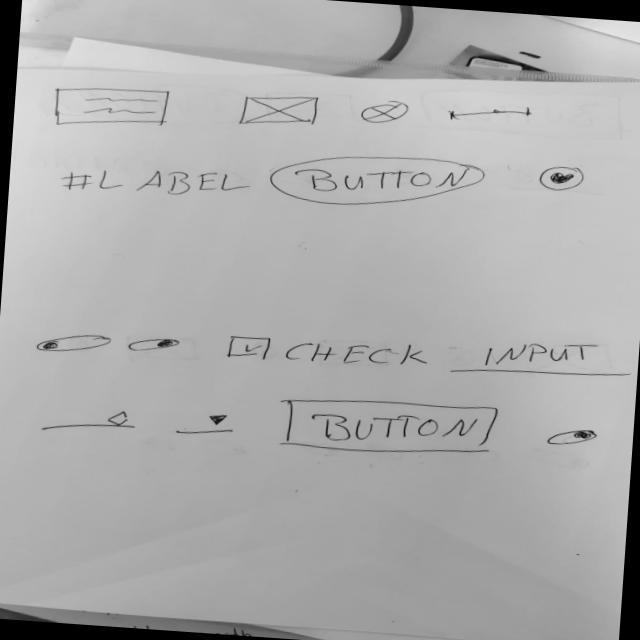button: (280, 390, 503, 461), (266, 145, 488, 216)
checkbox: (222, 329, 433, 374)
icon-button: (536, 162, 586, 194)
image: (233, 89, 324, 132), (356, 96, 412, 127)
input: (448, 332, 638, 386)
label: (58, 158, 253, 206)
number-input: (39, 402, 138, 440)
select: (169, 410, 237, 440)
slider: (443, 98, 535, 128)
textarea: (45, 80, 175, 134)
toggle: (34, 330, 114, 358), (540, 424, 600, 450), (125, 334, 183, 356)
